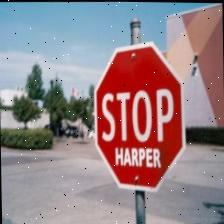Stop: (94, 42, 186, 194)
